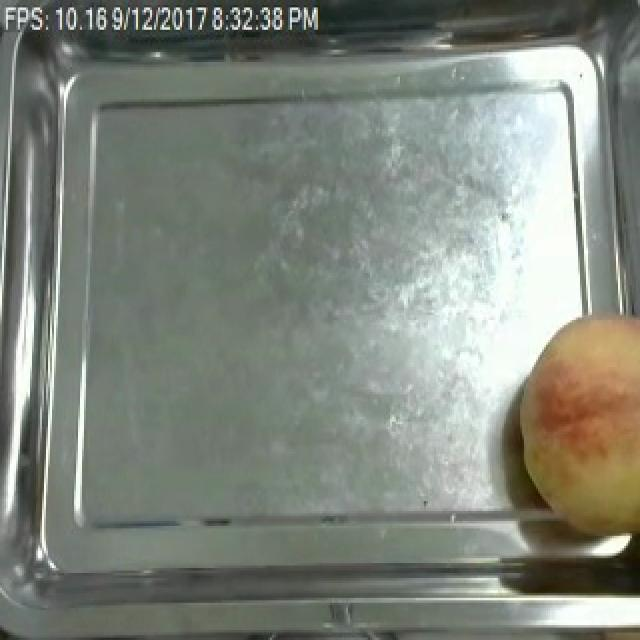Fruit: (510, 300, 640, 546)
